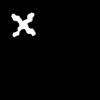single_crochet: (12, 13, 35, 36)
